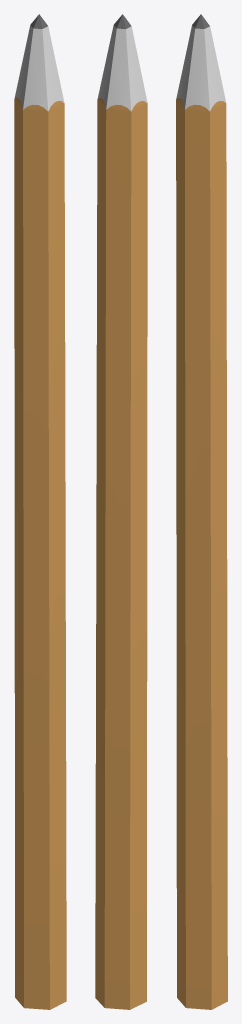
Rendered from SM_Pencil_3.fbx.
3 renders of one model, left to right at view 1: azimuth 30°, elevation 25°; view 2: azimuth 210°, elevation 25°; view 3: azimuth 330°, elevation 25°, orthographic.
Visible parts, largest first — view 1: SM_Pencil_3; view 2: SM_Pencil_3; view 3: SM_Pencil_3.
Boxes of the visible parts, x1,y1,x2,y2 form: SM_Pencil_3: [14, 14, 66, 1009]; SM_Pencil_3: [95, 14, 147, 1009]; SM_Pencil_3: [176, 14, 227, 1009].
Size of the model in its own units: 0.00794 by 0.1736 by 0.00814.
Materials: 3 (1 with a texture image).
